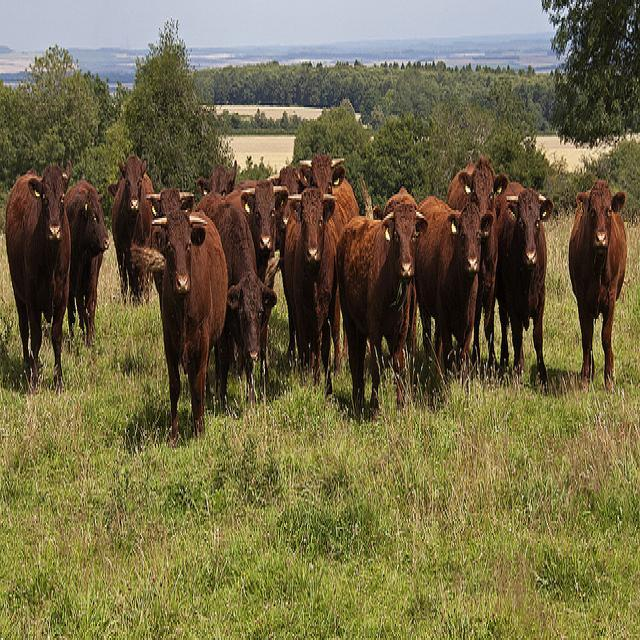cow: (337, 186, 426, 418), (151, 206, 228, 442), (413, 195, 491, 393), (4, 153, 71, 381), (194, 190, 277, 355), (567, 173, 629, 387), (285, 185, 343, 395), (494, 181, 553, 387), (62, 178, 109, 345), (110, 153, 152, 299), (299, 149, 359, 234), (268, 160, 308, 228)
